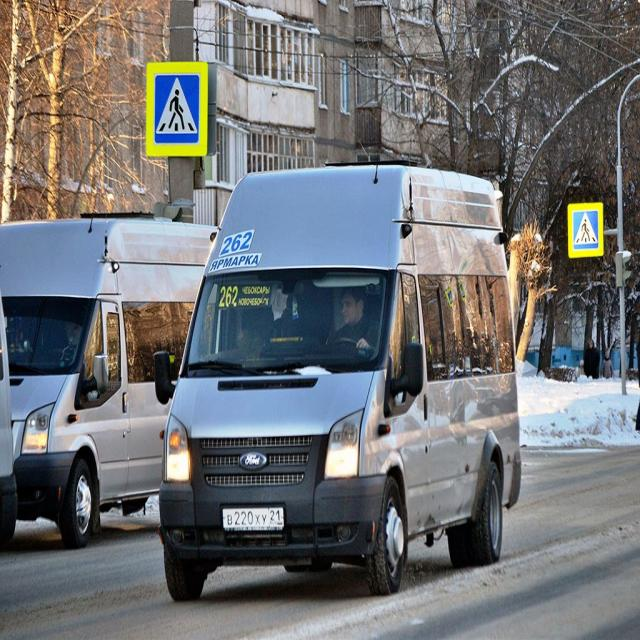number-of-bus: (220, 229, 257, 257), (219, 286, 241, 309)
